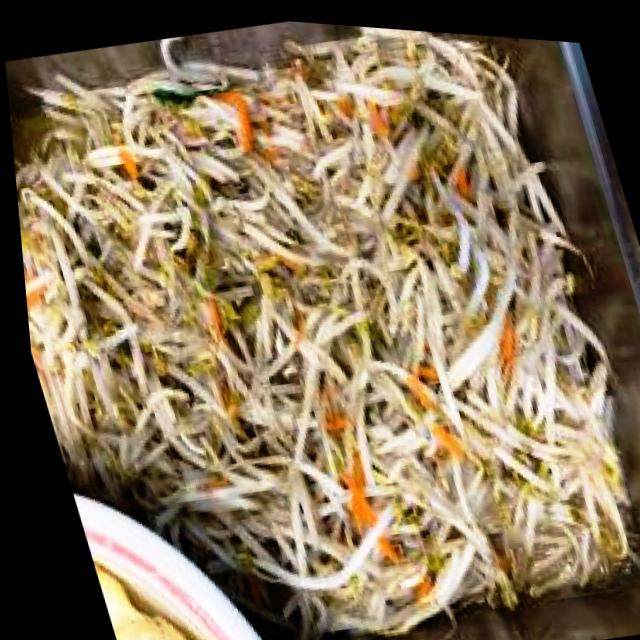mung_bean_sprouts: (55, 4, 640, 604), (7, 82, 178, 506), (249, 490, 640, 640)
